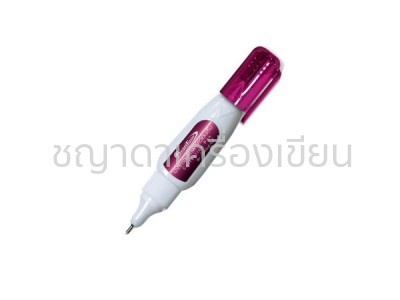Correction_fluid: (121, 43, 286, 240)
